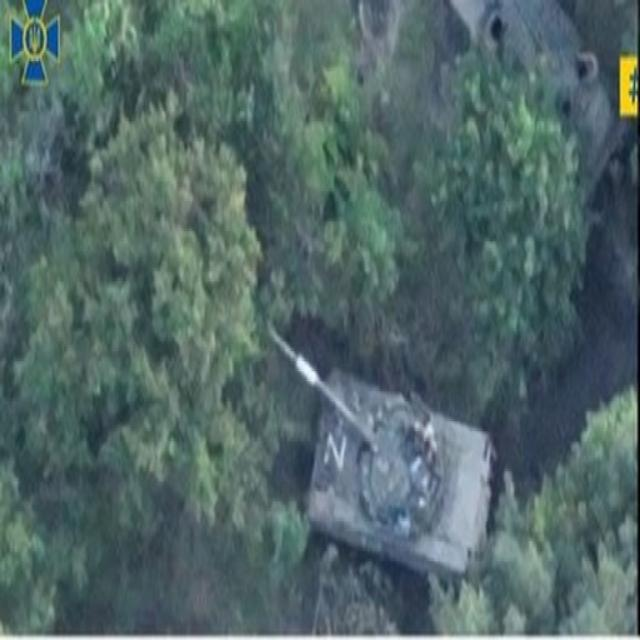TANK: (264, 320, 495, 589)
